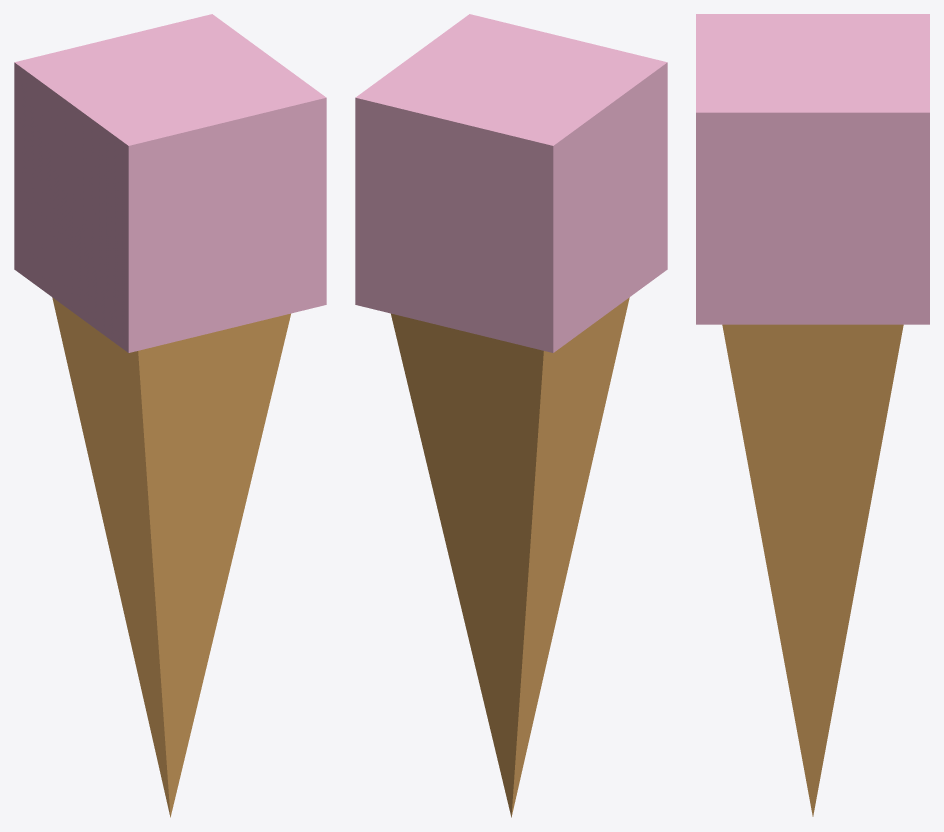
The model's file is CandylandIcecream_02.fbx.
3 views of the same model, side by side, from view 1: azimuth 30°, elevation 25°; view 2: azimuth 150°, elevation 25°; view 3: azimuth 270°, elevation 25° (orthographic). The views are drawn at different scales.
Parts seen in each view (by area): view 1: CandylandIcecream_02; view 2: CandylandIcecream_02; view 3: CandylandIcecream_02.
Boxes of the visible parts, x1,y1,x2,y2 form: CandylandIcecream_02: [14, 14, 326, 817]; CandylandIcecream_02: [355, 14, 667, 817]; CandylandIcecream_02: [696, 14, 929, 816].
Size of the model in its own units: 0.254 by 0.9048 by 0.254.
